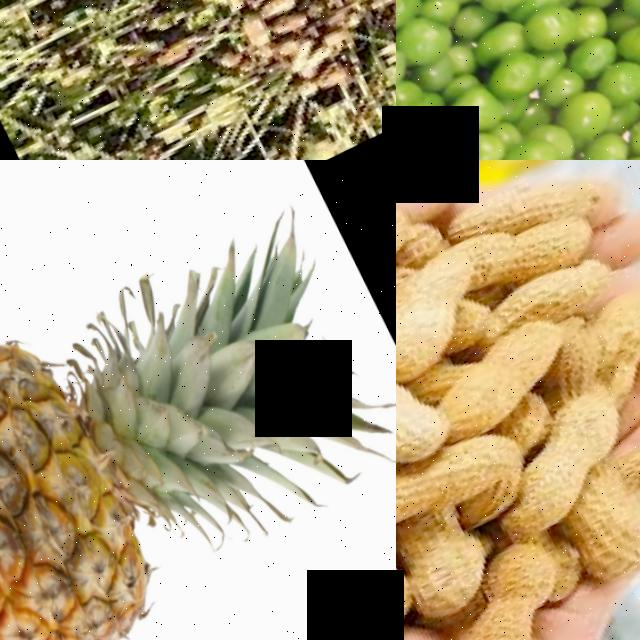peanuts: (418, 321, 578, 450), (396, 423, 523, 548), (464, 209, 601, 308), (396, 506, 501, 629), (549, 485, 640, 602), (527, 388, 632, 484), (423, 578, 560, 640), (396, 283, 473, 392), (396, 374, 452, 477)
peas: (396, 0, 640, 160)
pineapple: (0, 243, 257, 640)
